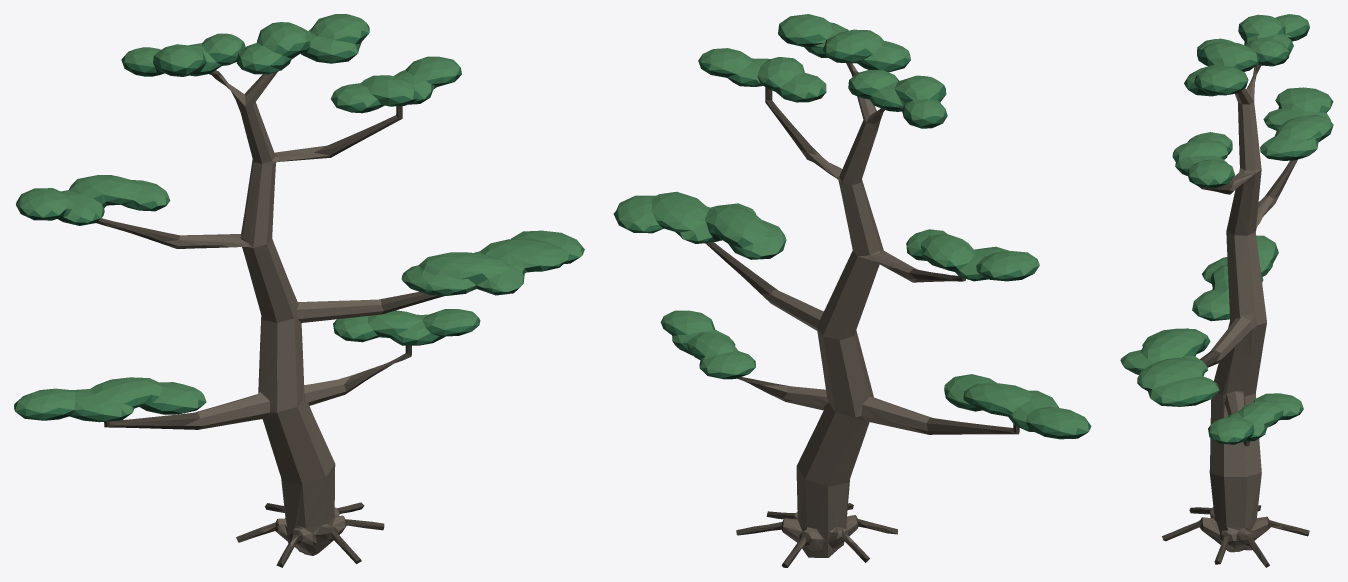
File: ancient-pine-2171-lod0.glb
3 renders of one model, left to right at view 1: azimuth 30°, elevation 25°; view 2: azimuth 150°, elevation 25°; view 3: azimuth 270°, elevation 25°, orthographic. The views are drawn at different scales.
Visible parts, largest first — view 1: n12.004, n8.004, n11.004, n9.004, n10.004; view 2: n12.004, n8.004, n11.004, n9.004, n10.004; view 3: n12.004, n8.004, n11.004, n9.004, n10.004.
Part boxes in pixels (x1,y1,x2,y2): n12.004: [14, 14, 584, 416]; n8.004: [163, 71, 383, 555]; n11.004: [14, 20, 584, 421]; n9.004: [96, 54, 444, 567]; n10.004: [16, 33, 579, 422]; n12.004: [618, 14, 1088, 434]; n8.004: [761, 64, 932, 557]; n11.004: [613, 24, 1091, 435]; n9.004: [705, 63, 1019, 567]; n10.004: [615, 34, 1087, 439]; n12.004: [1120, 14, 1333, 441]; n8.004: [1202, 66, 1282, 552]; n11.004: [1128, 24, 1333, 442]; n9.004: [1162, 64, 1309, 567]; n10.004: [1123, 28, 1331, 444].
Bounding box in the file's own units: 5.54 × 5.43 × 2.14.
